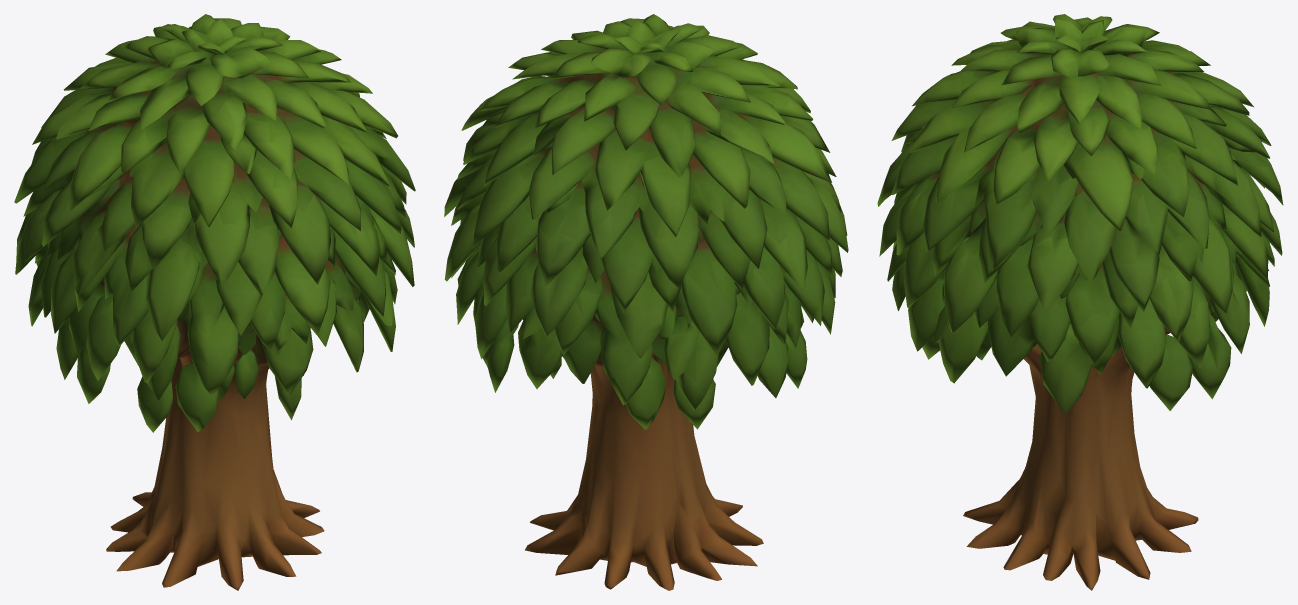
Rendered from tree_round.glb.
The picture shows the model from 3 angles, left to right: view 1: azimuth 30°, elevation 25°; view 2: azimuth 150°, elevation 25°; view 3: azimuth 270°, elevation 25°; orthographic projection.
Visible parts, largest first — view 1: tripo_node_10266bc6-397c-4e79-8fc6-9f0e86f026b6; view 2: tripo_node_10266bc6-397c-4e79-8fc6-9f0e86f026b6; view 3: tripo_node_10266bc6-397c-4e79-8fc6-9f0e86f026b6.
Part boxes in pixels (bbox=[...]): tripo_node_10266bc6-397c-4e79-8fc6-9f0e86f026b6: bbox=[14, 14, 415, 590]; tripo_node_10266bc6-397c-4e79-8fc6-9f0e86f026b6: bbox=[444, 14, 848, 590]; tripo_node_10266bc6-397c-4e79-8fc6-9f0e86f026b6: bbox=[877, 14, 1283, 590].
Bounding box in the file's own units: 3.33 × 4.6 × 3.32.
Materials: 1 (1 with a texture image).
